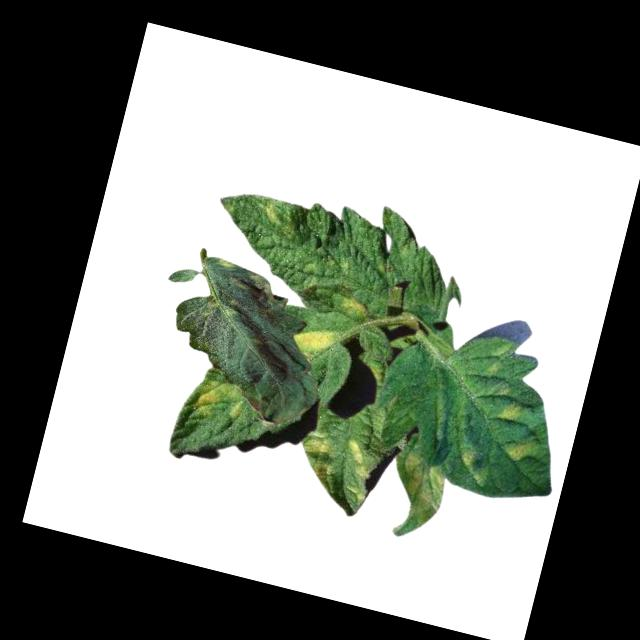Leaf_Mold: (384, 451, 453, 545), (194, 253, 289, 319), (182, 372, 251, 433), (333, 437, 380, 506), (295, 429, 347, 487), (259, 196, 304, 239), (452, 444, 495, 488), (291, 324, 338, 358), (505, 434, 539, 468), (335, 295, 372, 326), (497, 397, 523, 424)
